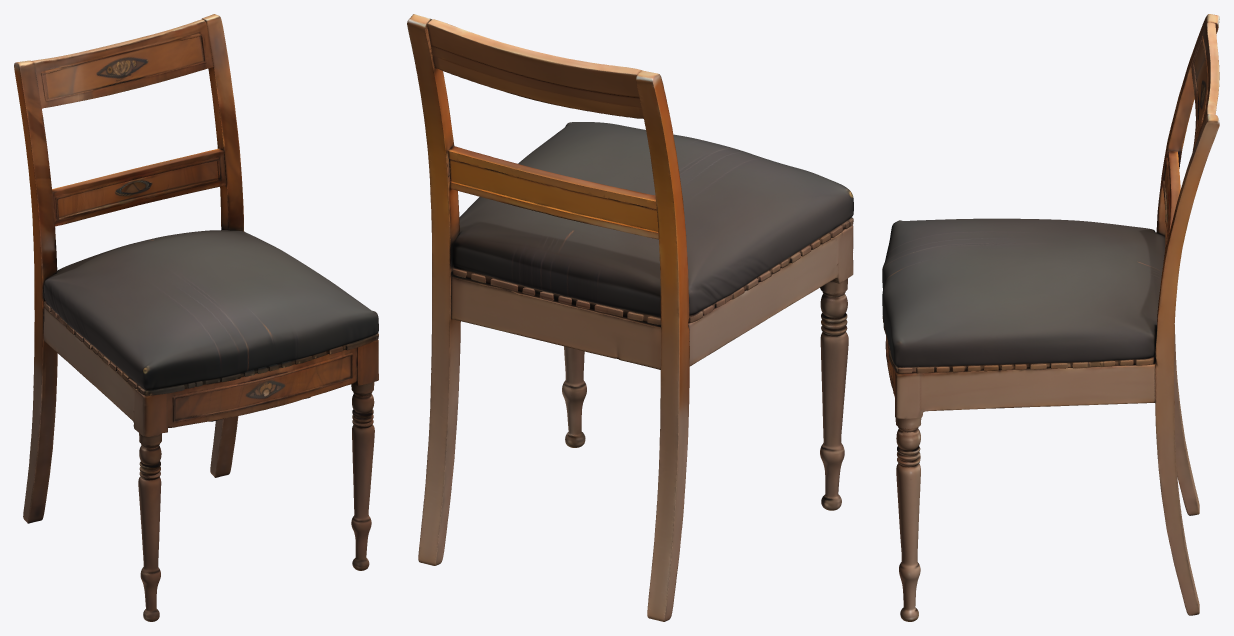
3 renders of one model, left to right at view 1: azimuth 30°, elevation 25°; view 2: azimuth 150°, elevation 25°; view 3: azimuth 270°, elevation 25°, orthographic. The views are drawn at different scales.
Visible parts, largest first — view 1: root.1, root.0, root.2, root.4, root.5, root.3, root.6, root.7; view 2: root.1, root.0, root.2, root.3, root.4, root.5, root.7, root.6; view 3: root.1, root.0, root.3, root.6, root.2, root.4, root.5.
Part boxes in pixels (x1=…): root.1: x1=44, y1=230, x2=378, y2=396; root.0: x1=44, y1=307, x2=378, y2=437; root.2: x1=14, y1=60, x2=57, y2=523; root.4: x1=32, y1=19, x2=213, y2=108; root.5: x1=52, y1=148, x2=226, y2=226; root.3: x1=202, y1=14, x2=244, y2=477; root.6: x1=351, y1=382, x2=374, y2=570; root.7: x1=138, y1=433, x2=161, y2=621; root.1: x1=452, y1=122, x2=853, y2=325; root.0: x1=451, y1=225, x2=853, y2=369; root.2: x1=636, y1=70, x2=689, y2=621; root.3: x1=407, y1=14, x2=460, y2=565; root.4: x1=427, y1=19, x2=643, y2=118; root.5: x1=448, y1=146, x2=658, y2=239; root.7: x1=820, y1=278, x2=848, y2=510; root.6: x1=562, y1=346, x2=586, y2=447; root.1: x1=882, y1=218, x2=1165, y2=373; root.0: x1=885, y1=335, x2=1155, y2=418; root.3: x1=1154, y1=114, x2=1219, y2=615; root.6: x1=895, y1=418, x2=921, y2=621; root.2: x1=1156, y1=14, x2=1219, y2=515; root.4: x1=1191, y1=22, x2=1219, y2=151; root.5: x1=1163, y1=150, x2=1180, y2=263.
Size of the model in its own units: 0.4393 by 0.808 by 0.4968.
Materials: 8 (8 with a texture image).
